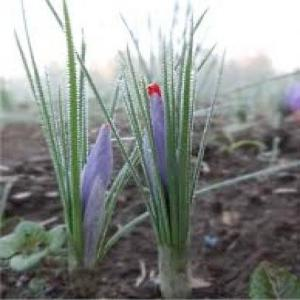Saffron: (146, 80, 182, 220), (78, 122, 114, 256)
